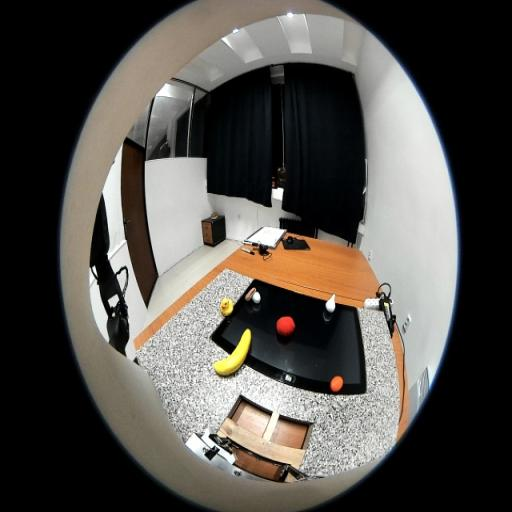Banana: (214, 328, 252, 376)
Duck: (220, 298, 234, 316)
Mushroom: (245, 287, 261, 303)
Onion: (326, 294, 336, 313)
Orange: (330, 375, 344, 392)
Tomato: (276, 316, 296, 336)
